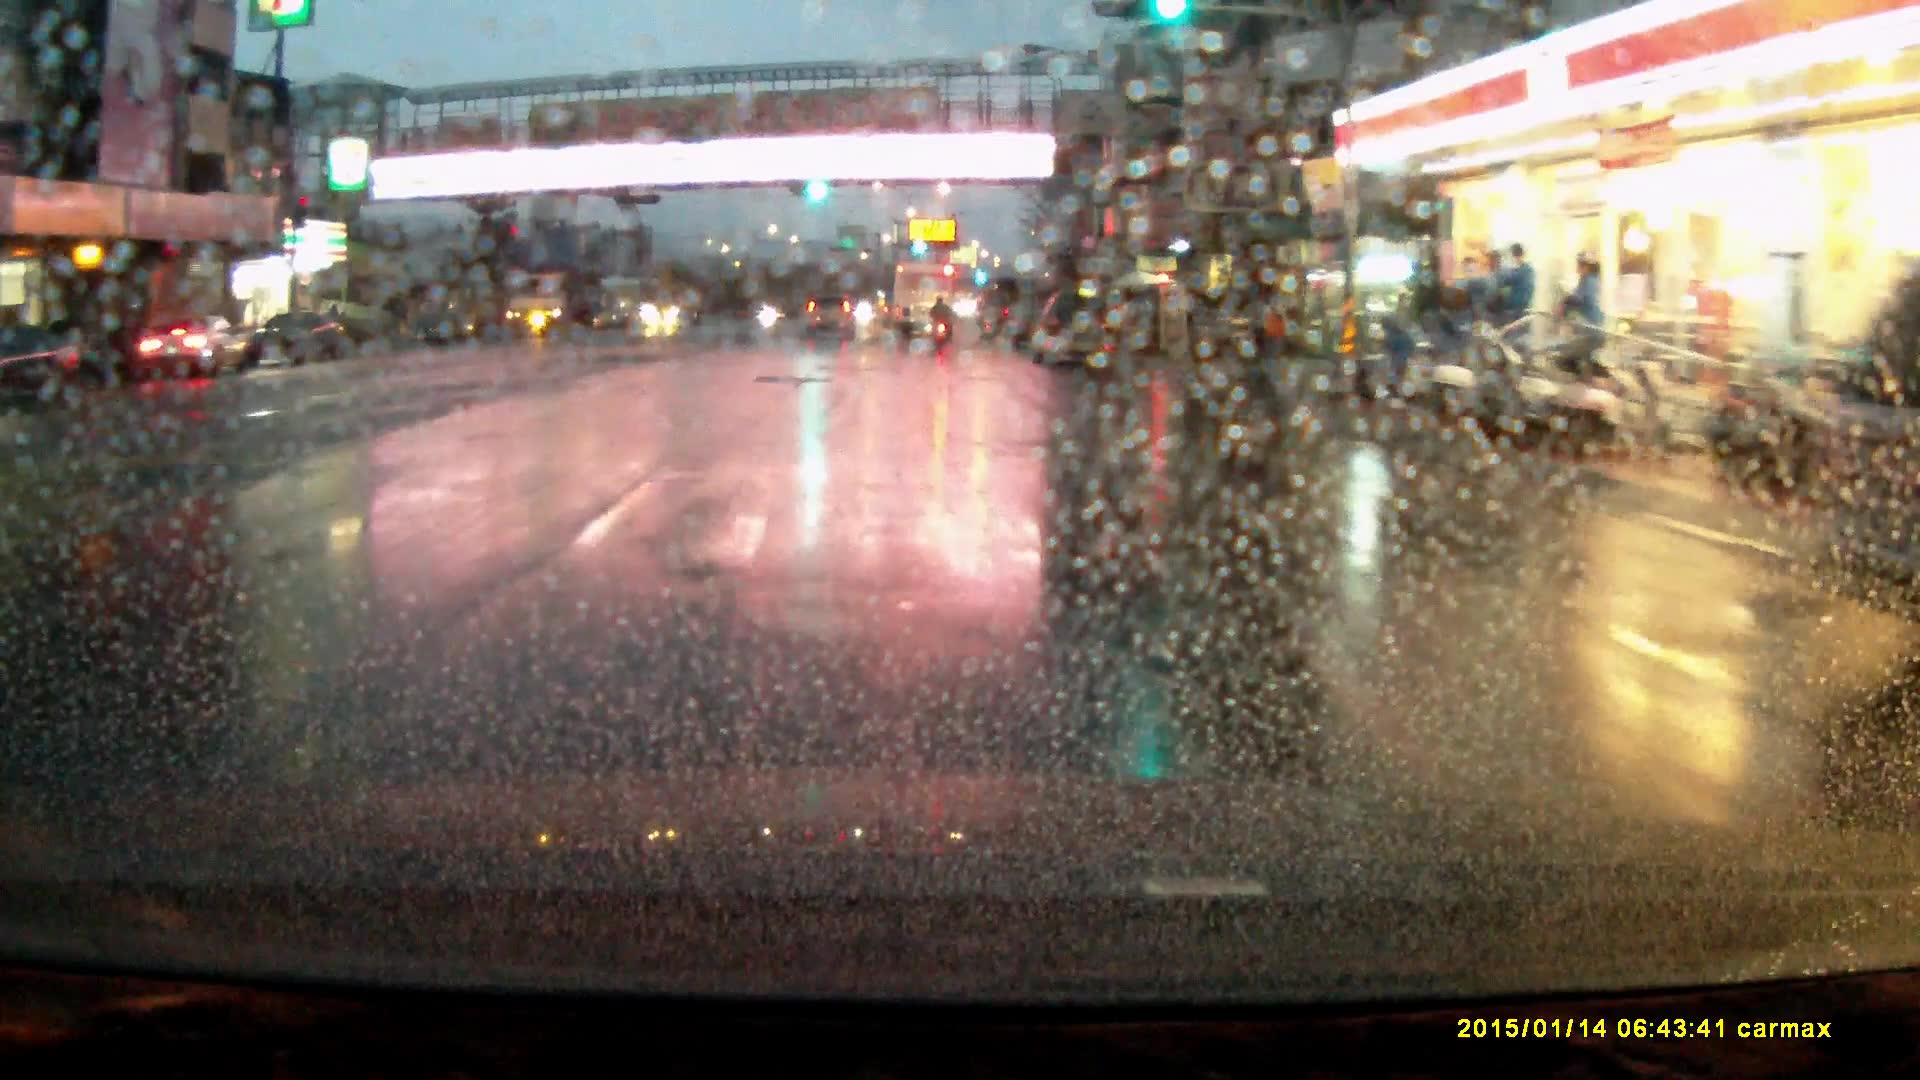rider: (931, 292, 957, 349)
vehicle: (505, 260, 604, 338), (137, 316, 247, 380), (1036, 290, 1116, 371), (248, 309, 356, 366), (1194, 295, 1279, 359), (894, 258, 954, 340), (647, 283, 708, 328), (806, 295, 859, 341)
